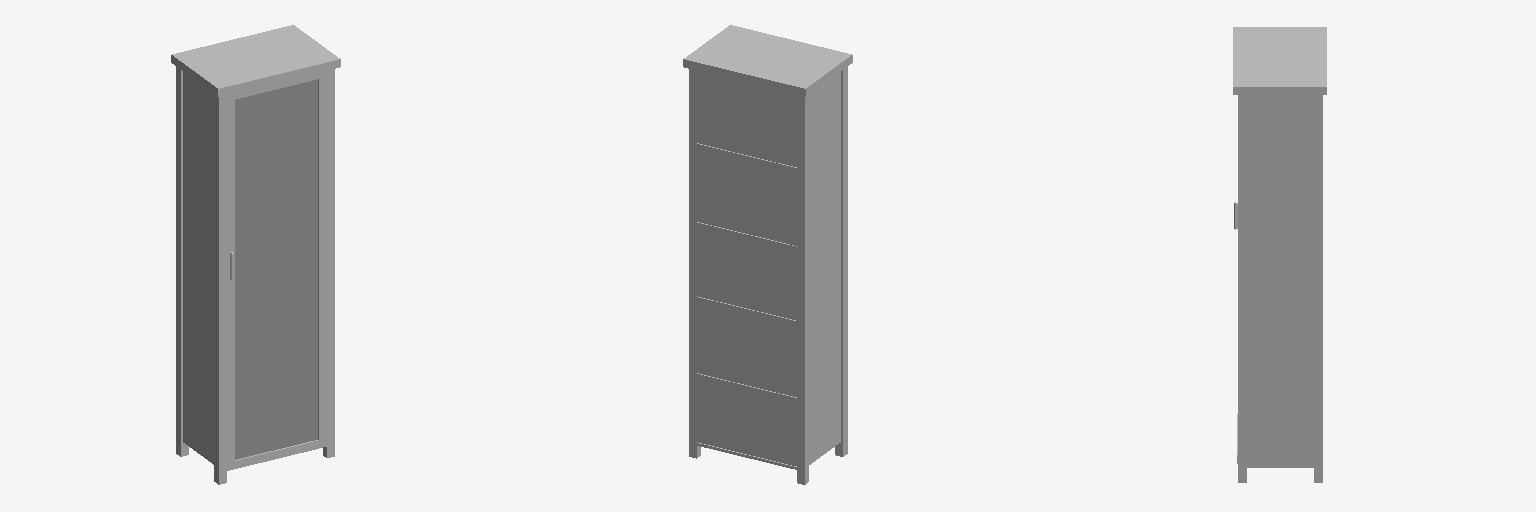
Rendered from norland.obj.
3 views of the same model, side by side, from view 1: azimuth 30°, elevation 25°; view 2: azimuth 150°, elevation 25°; view 3: azimuth 270°, elevation 25° (orthographic).
Parts seen in each view (by area): view 1: Plane, Cube.004, Cube.003, Cube.005, Cube.015_Cube.017, Cube.007, Cube.013_Cube.014, Cube.002, Cube.014_Cube.016, Cube.016_Cube.018; view 2: Cube, Cube.004, Cube.003, Cube.002, Cube.001, Cube.005; view 3: Cube.008, Cube.003, Cube.007, Cube.001.
Part boxes in pixels (x1,y1,x2,y2): Plane: (235, 79, 317, 459); Cube.004: (183, 72, 213, 464); Cube.003: (171, 25, 340, 96); Cube.005: (214, 94, 226, 484); Cube.015_Cube.017: (318, 71, 326, 447); Cube.007: (323, 69, 334, 457); Cube.013_Cube.014: (227, 93, 234, 470); Cube.002: (176, 67, 188, 456); Cube.014_Cube.016: (235, 440, 318, 468); Cube.016_Cube.018: (235, 73, 318, 99); Cube: (697, 71, 796, 465); Cube.004: (809, 72, 840, 464); Cube.003: (683, 25, 852, 96); Cube.002: (797, 95, 808, 484); Cube.001: (689, 69, 700, 458); Cube.005: (835, 67, 847, 456); Cube.008: (1247, 95, 1313, 467); Cube.003: (1233, 27, 1326, 94); Cube.007: (1238, 95, 1246, 482); Cube.001: (1314, 95, 1322, 482).
Size of the model in its own units: 23 by 71.6 by 15.3.